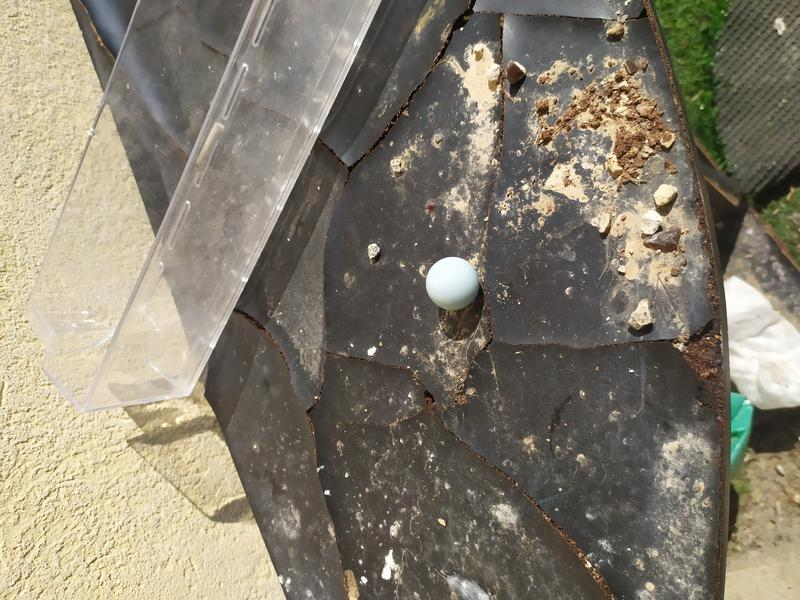Warning: (423, 255, 481, 314)
